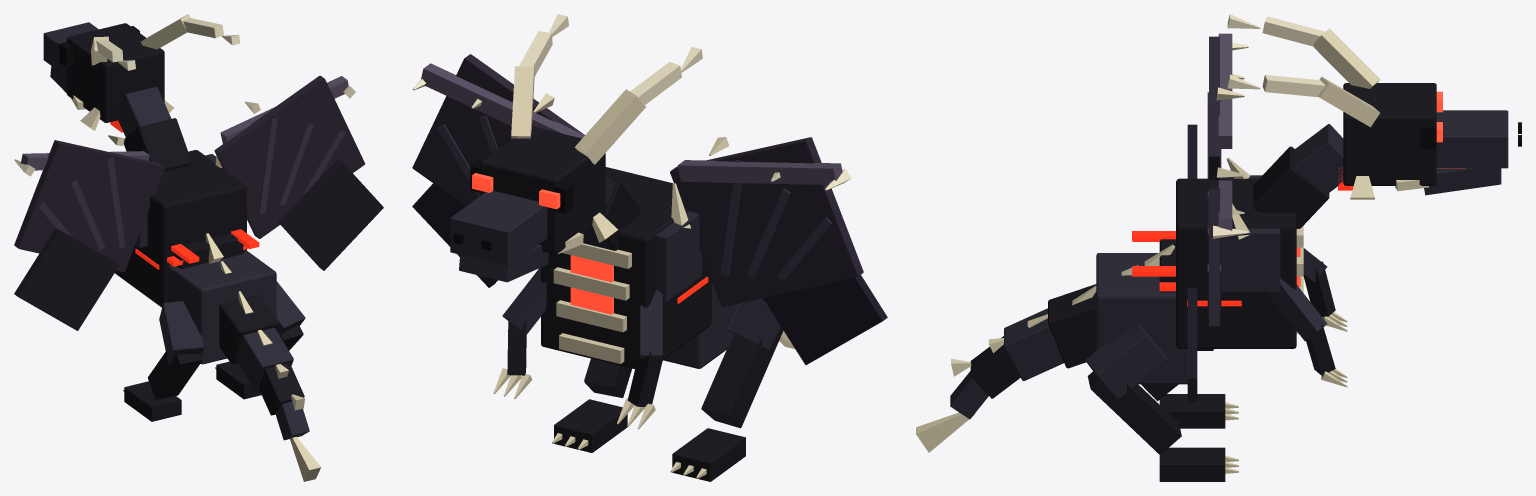
Rendered from dreadscale.glb.
The picture shows the model from 3 angles, left to right: view 1: azimuth 30°, elevation 25°; view 2: azimuth 150°, elevation 25°; view 3: azimuth 270°, elevation 25°; orthographic projection. The views are drawn at different scales.
Visible parts, largest first — view 1: wing.L, wing.R, body, head, tail, leg.BR, leg.BL; view 2: wing.R, head, body, wing.L, leg.BR, leg.BL, arm.R, arm.L; view 3: head, body, tail, leg.BL, wing.L, wing.R, arm.L, leg.BR, arm.R.
Part boxes in pixels (<box>): wing.L: <box>214,75,383,270</box>; wing.R: <box>14,135,164,330</box>; body: <box>115,150,276,364</box>; head: <box>43,14,240,171</box>; tail: <box>219,291,321,481</box>; leg.BR: <box>123,301,203,421</box>; leg.BL: <box>215,281,305,399</box>; wing.R: <box>670,137,887,364</box>; head: <box>450,14,702,282</box>; body: <box>538,167,733,368</box>; wing.L: <box>412,54,584,287</box>; leg.BR: <box>670,299,783,481</box>; leg.BL: <box>552,358,631,452</box>; arm.R: <box>617,289,664,429</box>; arm.L: <box>493,267,546,398</box>; head: <box>1227,14,1521,228</box>; body: <box>1096,157,1303,384</box>; tail: <box>916,284,1096,452</box>; leg.BL: <box>1085,324,1238,481</box>; wing.L: <box>1187,167,1248,402</box>; wing.R: <box>1187,33,1248,179</box>; arm.L: <box>1269,278,1347,387</box>; leg.BR: <box>1141,384,1238,428</box>; arm.R: <box>1303,248,1347,331</box>.
Bounding box in the file's own units: 1.13 × 1 × 1.36.
